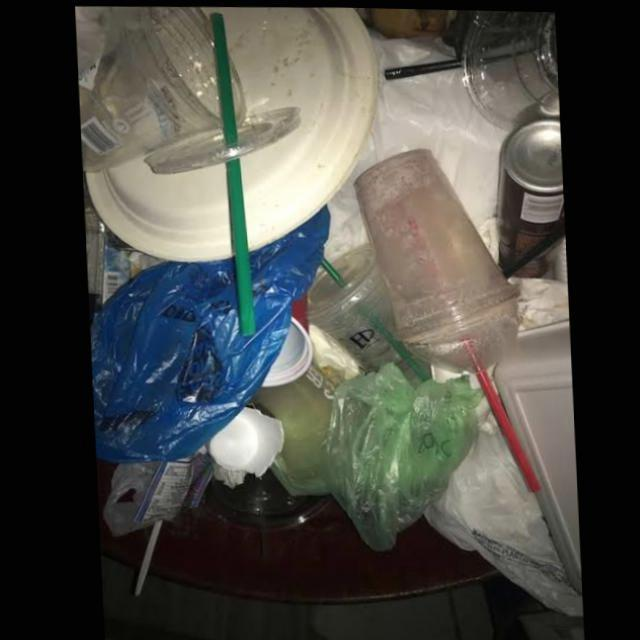aluminum: (490, 111, 563, 276)
plastic_bag: (89, 204, 329, 461), (419, 393, 579, 612), (316, 358, 476, 548)
plastic_container: (353, 143, 520, 366), (77, 6, 300, 173), (305, 257, 431, 379), (459, 8, 559, 128)
plastic_sachet: (132, 445, 211, 523)
